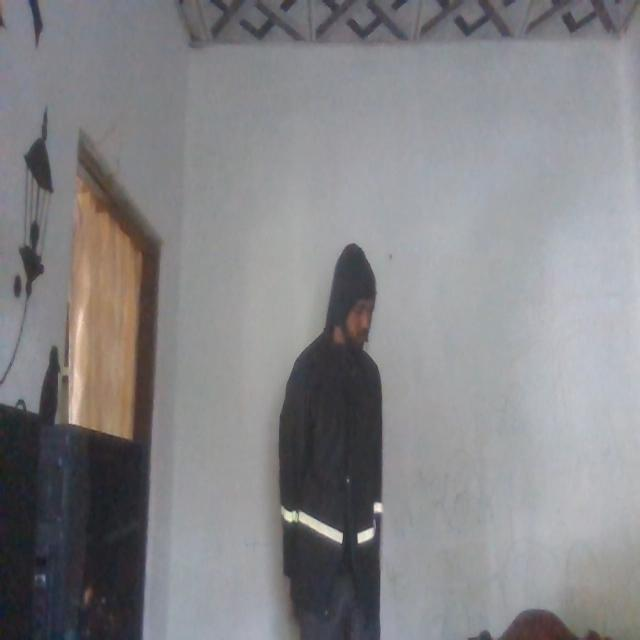Jacket_Wearer: (275, 322, 387, 591)
Person: (268, 238, 384, 640)
